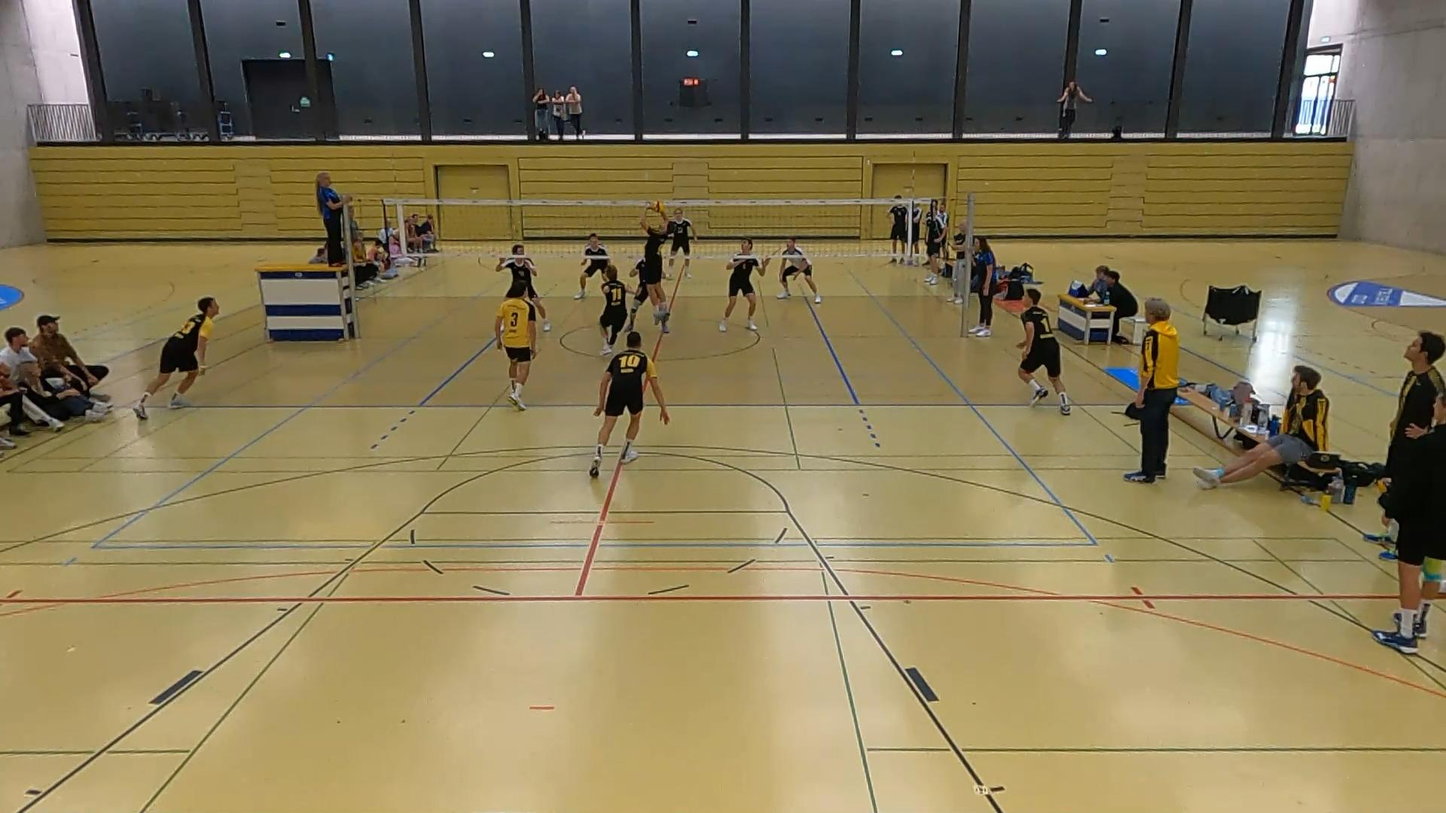alzata: (622, 202, 686, 327)
